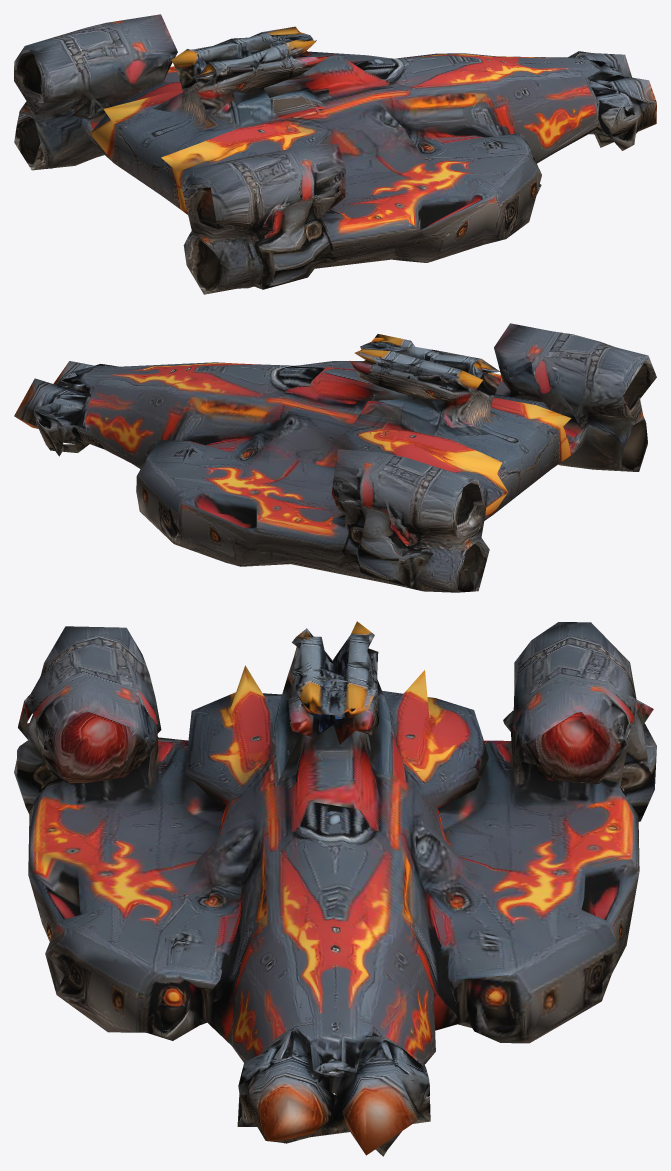
Rendered from red_ship.glb.
3 views of the same model, one above another, from view 1: azimuth 30°, elevation 25°; view 2: azimuth 150°, elevation 25°; view 3: azimuth 270°, elevation 25° (orthographic). The views are drawn at different scales.
Visible parts, largest first — view 1: tripo_node_0c36d279-8814-4640-959d-cf8014613a3d; view 2: tripo_node_0c36d279-8814-4640-959d-cf8014613a3d; view 3: tripo_node_0c36d279-8814-4640-959d-cf8014613a3d.
Boxes of the visible parts, bbox=[...] form: tripo_node_0c36d279-8814-4640-959d-cf8014613a3d: bbox=[14, 14, 656, 294]; tripo_node_0c36d279-8814-4640-959d-cf8014613a3d: bbox=[14, 323, 656, 592]; tripo_node_0c36d279-8814-4640-959d-cf8014613a3d: bbox=[14, 621, 656, 1156].
Bounding box in the file's own units: 1 × 0.3197 × 0.7543.
1 material, 1 textured.
